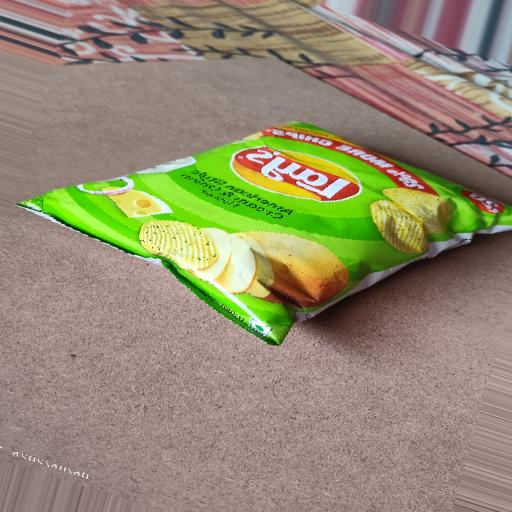Lays Green Small pack (American style cream and onion): (4, 112, 512, 380)
